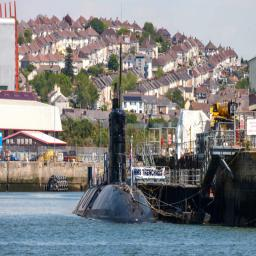submarine: (73, 103, 159, 224)
